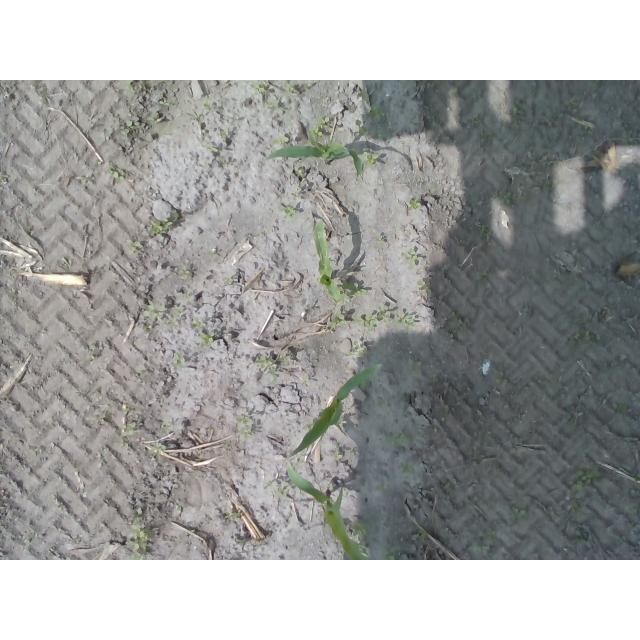Maize: (288, 366, 378, 459), (287, 466, 368, 560), (262, 130, 363, 177), (315, 220, 342, 301)
Weeds: (358, 307, 416, 330), (126, 512, 150, 561), (148, 209, 185, 237), (144, 302, 185, 327), (464, 111, 496, 142), (310, 112, 335, 144), (190, 317, 215, 348), (473, 526, 498, 554), (355, 118, 386, 138), (341, 278, 372, 298), (565, 478, 583, 511), (351, 519, 378, 538), (255, 355, 278, 376), (406, 357, 426, 380), (238, 416, 256, 441), (576, 468, 601, 484), (404, 249, 425, 267), (448, 319, 466, 339), (265, 479, 286, 496), (389, 431, 414, 445), (327, 313, 345, 332), (572, 330, 594, 345), (509, 103, 521, 128), (121, 118, 136, 138), (369, 105, 387, 121), (275, 206, 297, 219), (127, 238, 145, 253), (399, 462, 419, 475), (512, 505, 528, 521), (501, 191, 517, 206), (621, 131, 637, 146), (478, 223, 491, 241), (201, 141, 220, 153), (565, 97, 580, 112), (417, 281, 433, 295), (368, 150, 381, 166), (108, 168, 125, 180), (382, 548, 399, 560), (270, 134, 290, 144), (159, 99, 177, 110), (201, 97, 215, 111), (217, 127, 231, 141), (495, 373, 510, 386), (121, 422, 136, 435), (154, 441, 167, 456), (252, 81, 269, 92), (445, 86, 459, 99), (285, 80, 298, 93), (172, 353, 185, 366), (350, 345, 366, 355), (276, 353, 292, 363), (147, 115, 162, 125), (408, 198, 421, 209), (179, 264, 189, 278), (295, 167, 306, 178), (266, 98, 278, 108), (190, 110, 202, 120), (223, 275, 233, 286), (374, 483, 384, 493), (126, 83, 136, 93), (207, 248, 218, 257), (164, 421, 173, 431), (120, 438, 129, 448), (335, 448, 342, 460), (292, 190, 301, 199), (0, 173, 8, 182), (87, 350, 94, 360)
